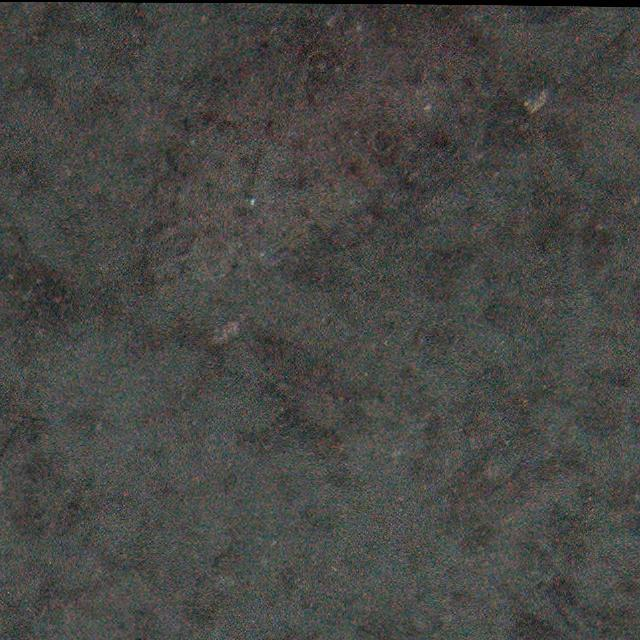flatfish: (148, 2, 522, 300)
